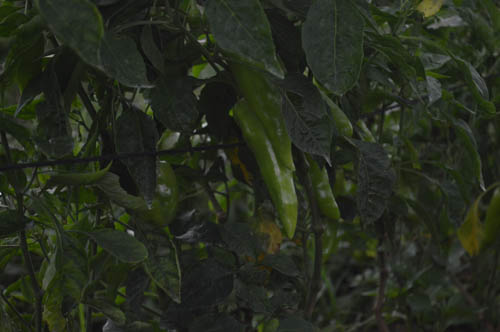ChiliPepper: (232, 103, 299, 238), (233, 61, 298, 167), (144, 162, 174, 224)
